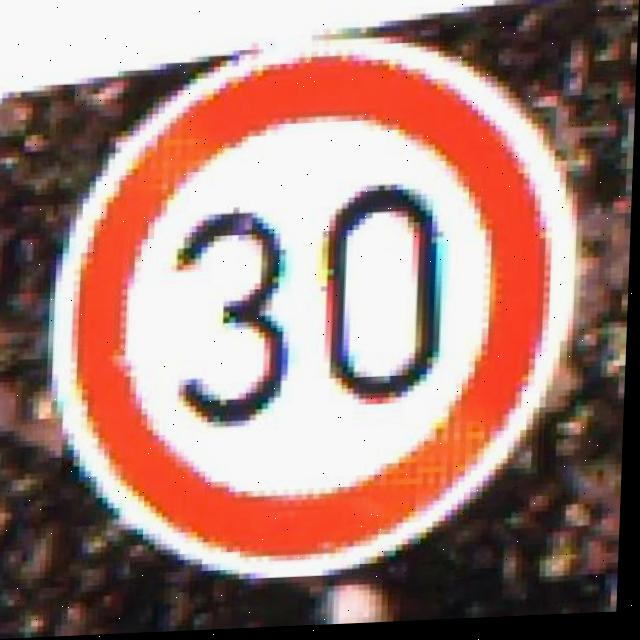Speed limit 30: (48, 34, 587, 590)
